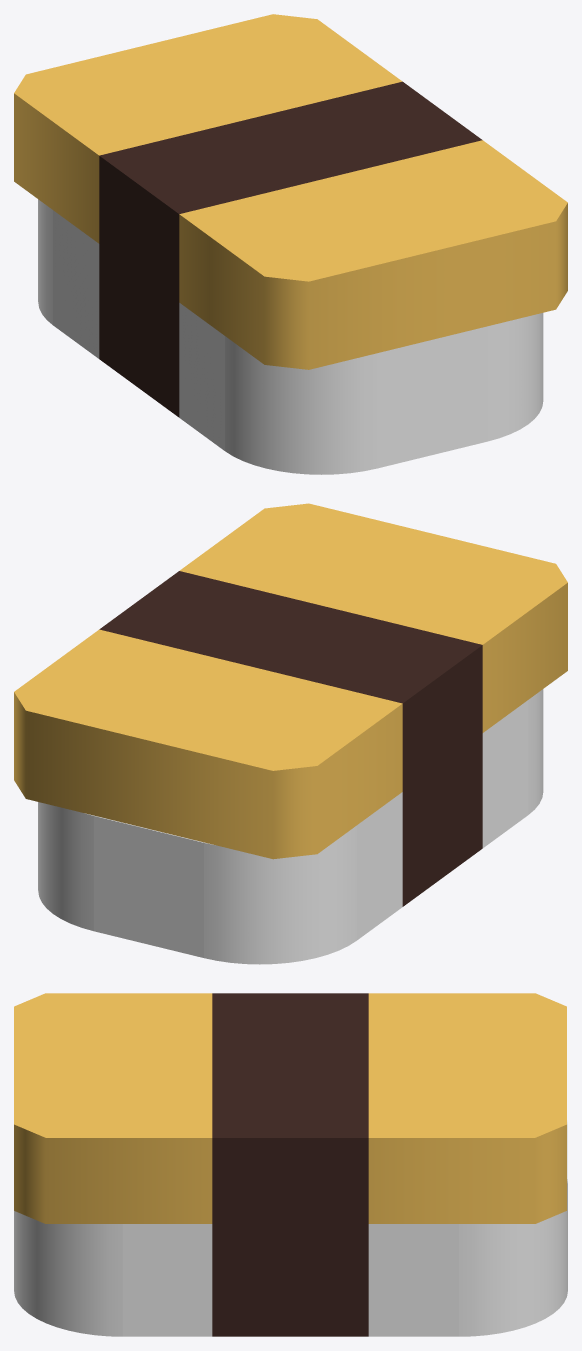
The model's file is sushiEgg.obj.
The picture shows the model from 3 angles, top to bottom: view 1: azimuth 30°, elevation 25°; view 2: azimuth 150°, elevation 25°; view 3: azimuth 270°, elevation 25°; orthographic projection. The views are drawn at different scales.
Parts seen in each view (by area): view 1: egg, sushiEgg; view 2: egg, sushiEgg; view 3: egg, sushiEgg.
Part boxes in pixels (bbox=[...]): egg: bbox=[14, 14, 567, 369]; sushiEgg: bbox=[38, 199, 543, 474]; egg: bbox=[14, 503, 567, 859]; sushiEgg: bbox=[38, 689, 543, 964]; egg: bbox=[14, 993, 566, 1223]; sushiEgg: bbox=[14, 1120, 567, 1336].
Bounding box in the file's own units: 0.1079 × 0.0692 × 0.1746.
